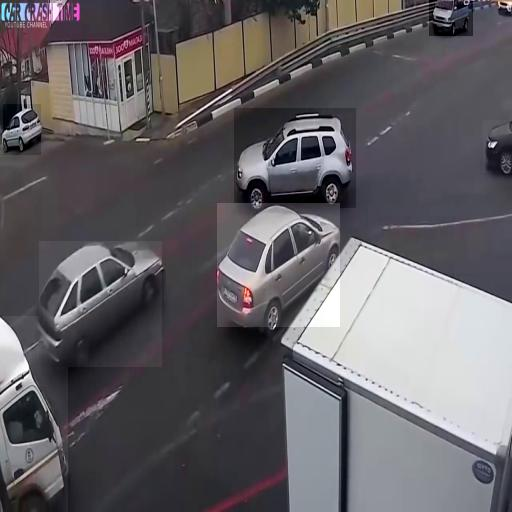小汽车: (39, 242, 162, 368), (217, 203, 340, 327), (0, 316, 68, 512), (234, 108, 356, 208), (3, 104, 41, 155), (429, 0, 473, 36), (483, 120, 512, 173)
